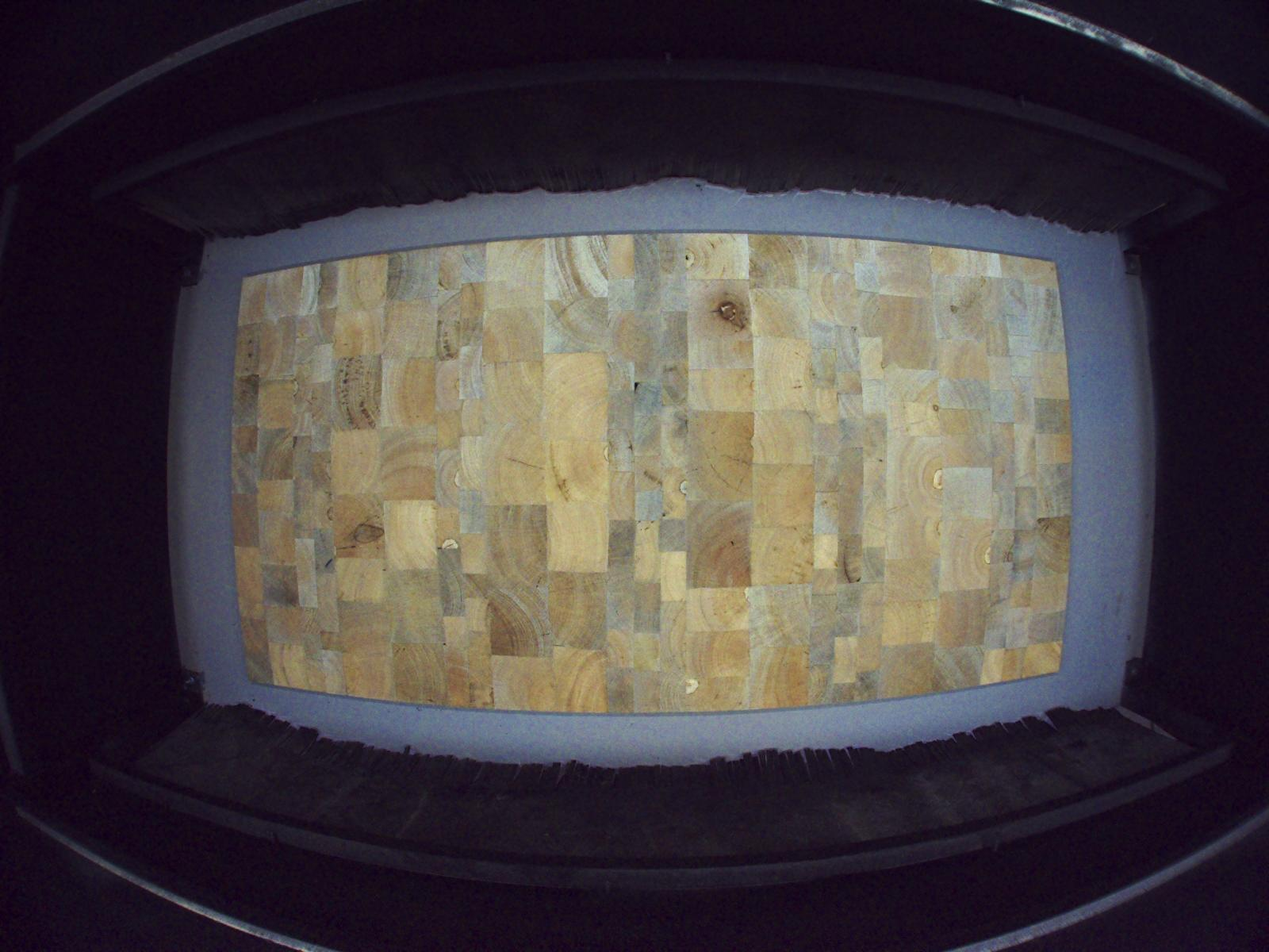nudillo: (703, 291, 752, 338)
